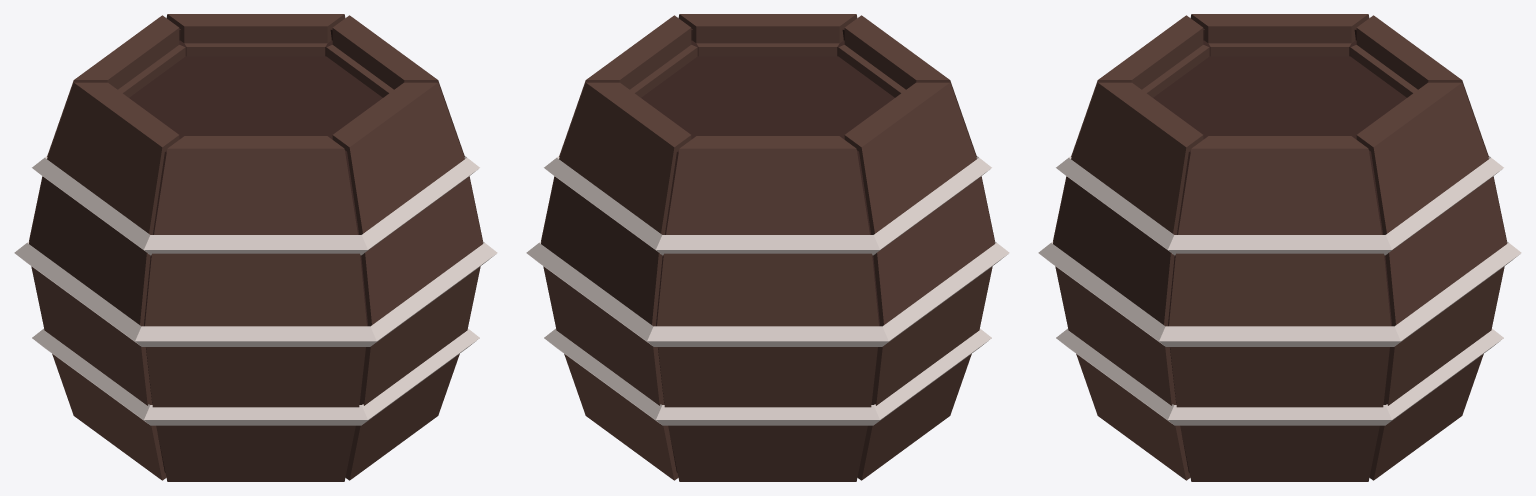
The model's file is Barrel.fbx.
The picture shows the model from 3 angles, left to right: view 1: azimuth 30°, elevation 25°; view 2: azimuth 150°, elevation 25°; view 3: azimuth 270°, elevation 25°; orthographic projection.
Parts seen in each view (by area): view 1: Barrel; view 2: Barrel; view 3: Barrel.
Part boxes in pixels (<box>): Barrel: <box>14,14,497,481</box>; Barrel: <box>526,14,1009,481</box>; Barrel: <box>1038,14,1521,481</box>.
Bounding box in the file's own units: 228 × 200 × 263.
